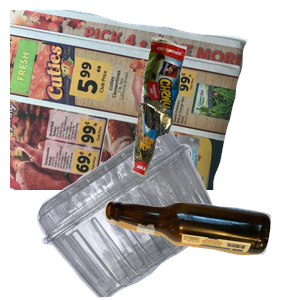glass: (101, 198, 300, 300)
paper: (10, 10, 250, 190)
plastic: (34, 130, 246, 300)
trash: (130, 34, 300, 203)
